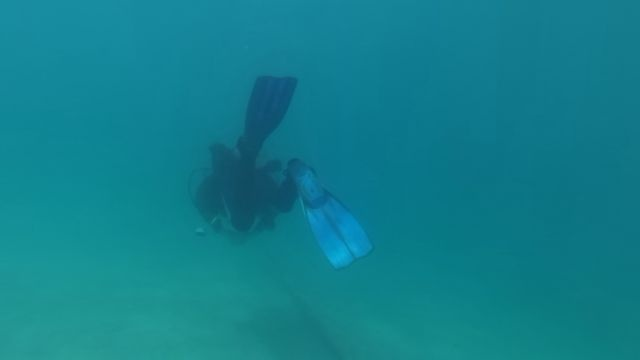Diver: (180, 70, 399, 278)
